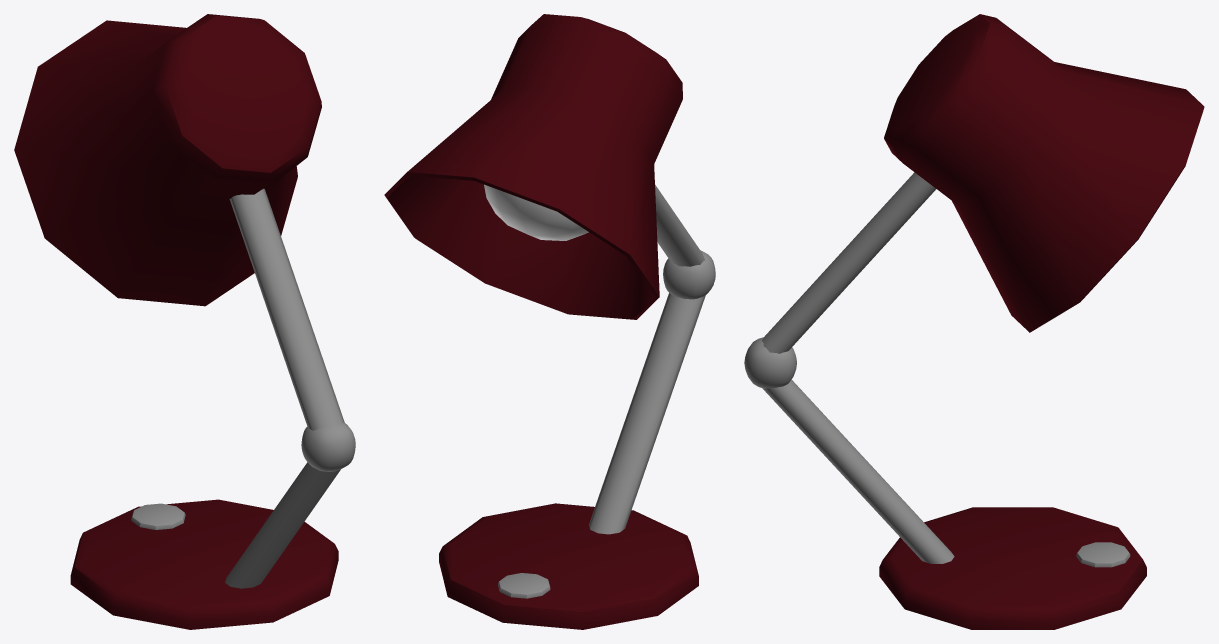
Rendered from Lamp_1.fbx.
3 renders of one model, left to right at view 1: azimuth 30°, elevation 25°; view 2: azimuth 150°, elevation 25°; view 3: azimuth 270°, elevation 25°, orthographic. The views are drawn at different scales.
Parts seen in each view (by area): view 1: Illuminator, Bottom, Lever, Connector, Button; view 2: Illuminator, Bottom, Lever, Cube, Connector, Button; view 3: Illuminator, Bottom, Lever, Connector, Button.
Boxes of the visible parts, x1=… form: Illuminator: x1=14, y1=14, x2=321, y2=306; Bottom: x1=70, y1=499, x2=338, y2=629; Lever: x1=225, y1=188, x2=344, y2=588; Connector: x1=301, y1=423, x2=355, y2=471; Button: x1=131, y1=503, x2=185, y2=529; Illuminator: x1=384, y1=14, x2=682, y2=319; Bottom: x1=439, y1=503, x2=698, y2=629; Lever: x1=589, y1=184, x2=705, y2=534; Cube: x1=484, y1=184, x2=588, y2=240; Connector: x1=663, y1=250, x2=715, y2=299; Button: x1=498, y1=573, x2=550, y2=598; Illuminator: x1=884, y1=14, x2=1204, y2=332; Bottom: x1=879, y1=507, x2=1146, y2=629; Lever: x1=762, y1=172, x2=954, y2=563; Connector: x1=744, y1=337, x2=796, y2=388; Button: x1=1076, y1=542, x2=1130, y2=567.
Bounding box in the file's own units: 32.05 × 68.33 × 51.58.
